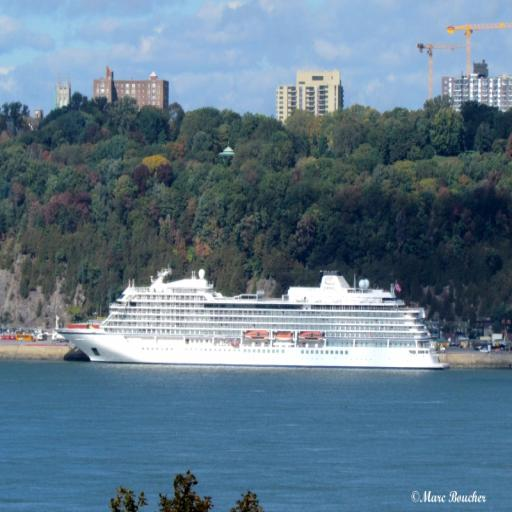cruises: (50, 259, 454, 377)
